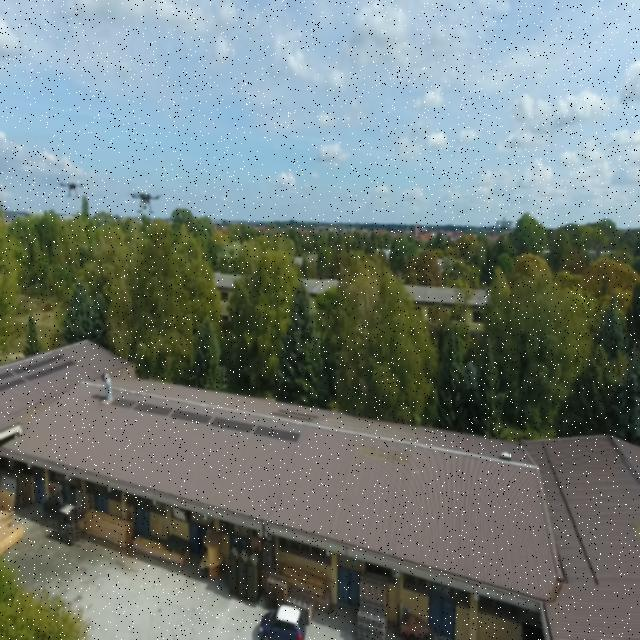UAV: (124, 186, 166, 218), (57, 176, 89, 203)
